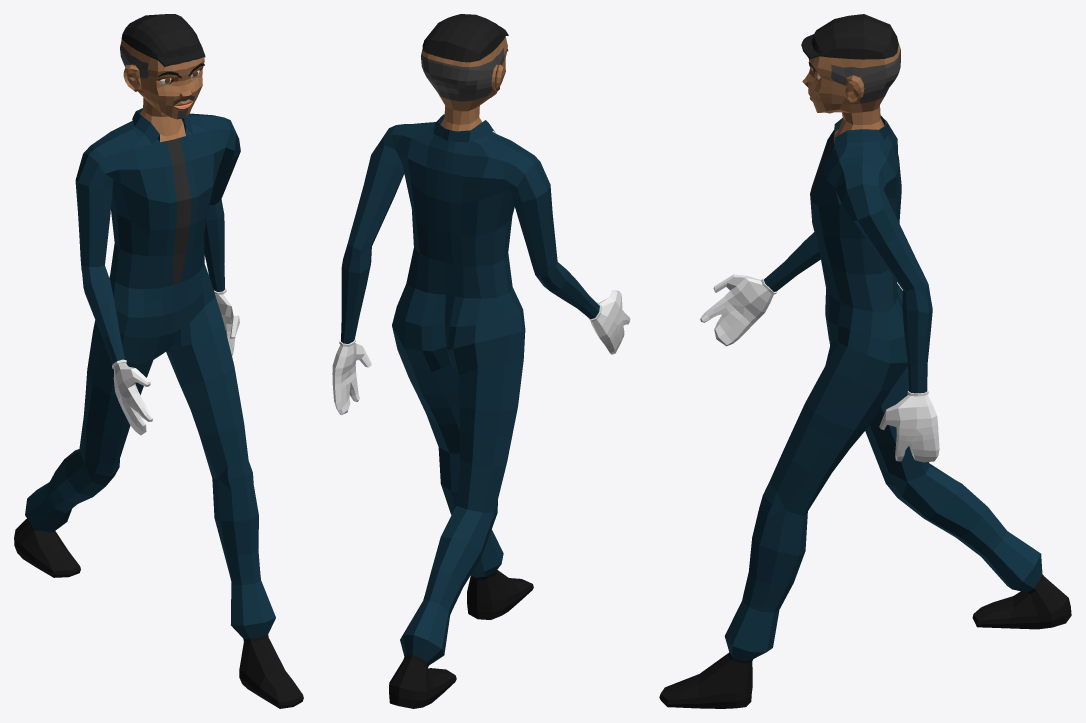
File: Mechanic_Walk.fbx
The picture shows the model from 3 angles, left to right: view 1: azimuth 30°, elevation 25°; view 2: azimuth 150°, elevation 25°; view 3: azimuth 270°, elevation 25°; orthographic projection. The views are drawn at different scales.
Parts seen in each view (by area): view 1: Mechanic_Walk; view 2: Mechanic_Walk; view 3: Mechanic_Walk.
Part boxes in pixels (bbox=[...]): Mechanic_Walk: bbox=[14, 14, 303, 708]; Mechanic_Walk: bbox=[332, 14, 630, 708]; Mechanic_Walk: bbox=[659, 14, 1071, 708].
Size of the model in its own units: 0.2997 by 0.9472 by 0.5337.
